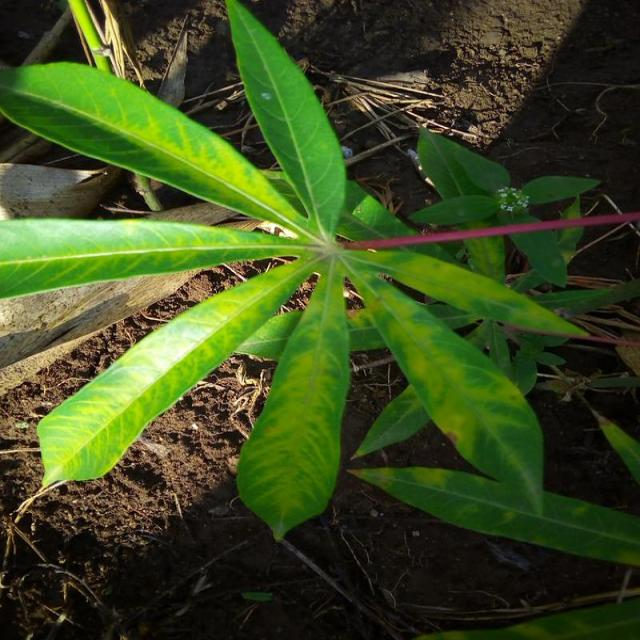cassava leaf: (0, 0, 597, 549), (35, 252, 318, 490), (0, 59, 314, 239), (346, 255, 544, 517), (236, 255, 350, 542), (224, 0, 346, 241)
